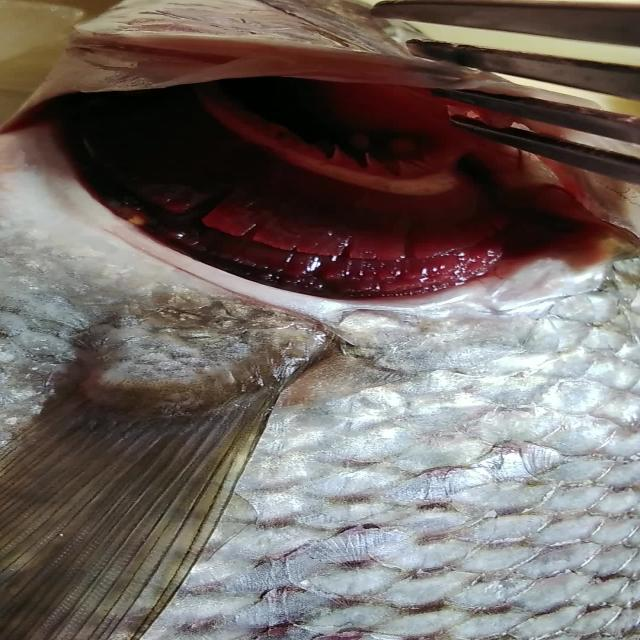Fresh: (68, 110, 542, 304)
